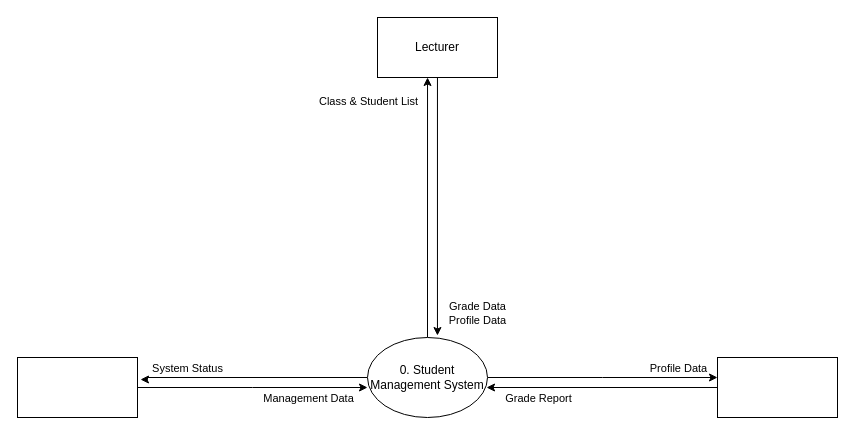
This 855x435 diagram has some shape labels left out. Here are the shapes that lost their labels. From the top down, the centre of each, then its label:
At pixel 77 387: "Admin".
At pixel 777 387: "Student".
